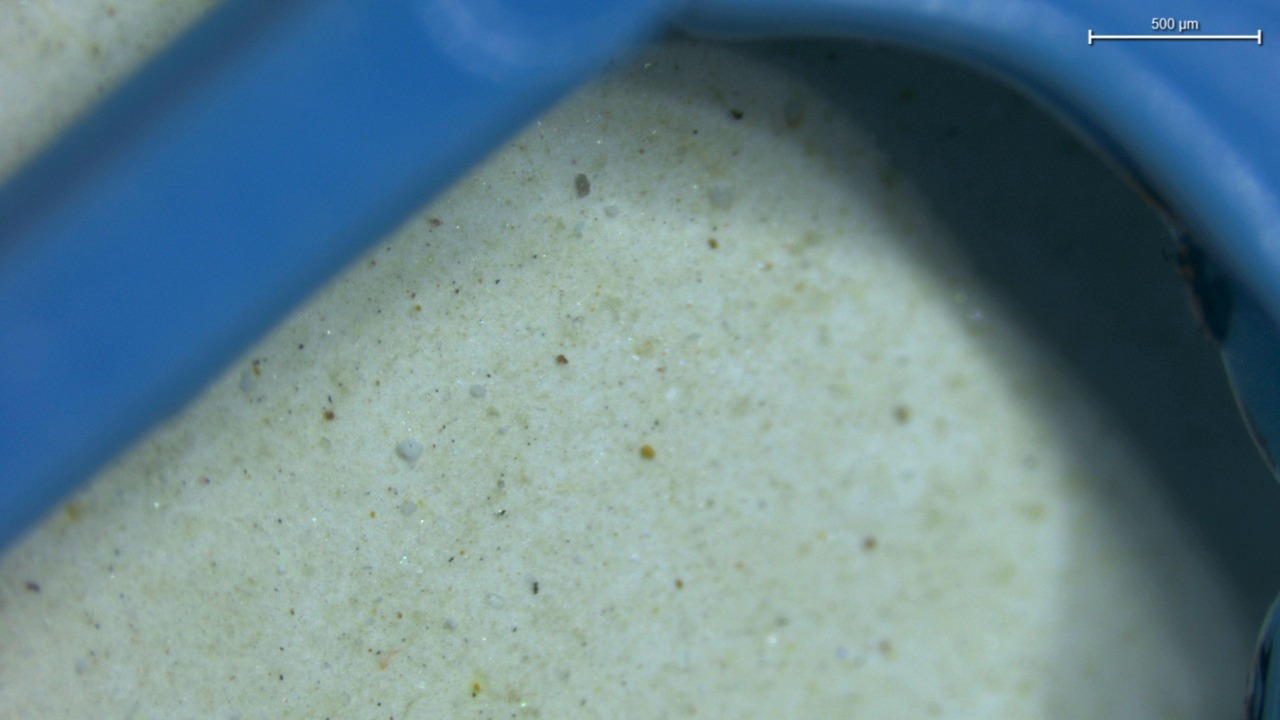microplastic_fragment: (397, 439, 423, 462)
